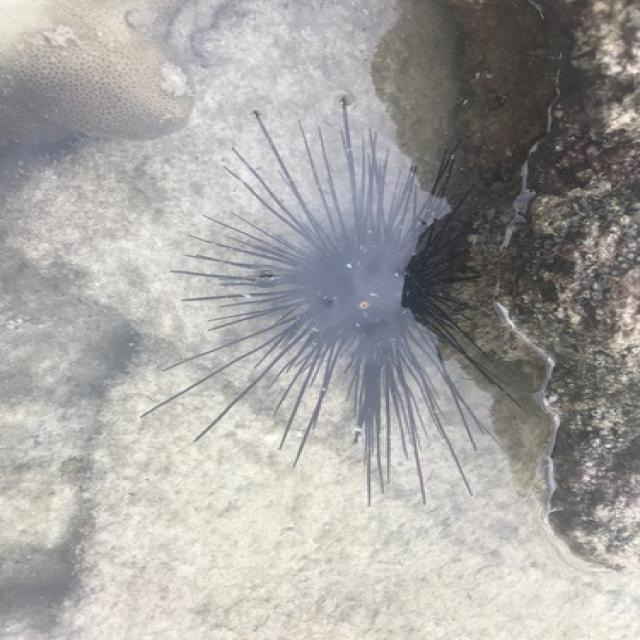Urchin: (133, 105, 516, 509)
